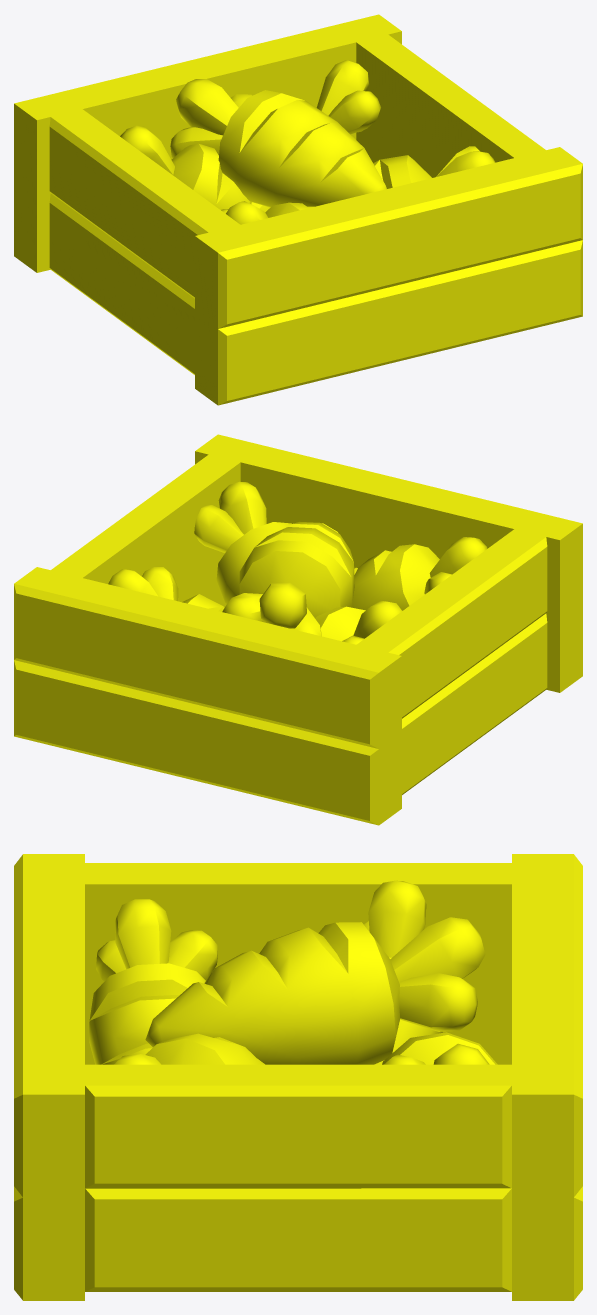
File: crate_carrots.gltf
3 views of the same model, one above another, from view 1: azimuth 30°, elevation 25°; view 2: azimuth 150°, elevation 25°; view 3: azimuth 270°, elevation 25° (orthographic). The views are drawn at different scales.
Parts seen in each view (by area): view 1: crate_carrots; view 2: crate_carrots; view 3: crate_carrots.
Boxes of the visible parts, x1,y1,x2,y2 form: crate_carrots: (14, 14, 582, 405); crate_carrots: (14, 434, 582, 825); crate_carrots: (14, 854, 582, 1300).
Bounding box in the file's own units: 2 × 0.9432 × 2.
1 material, 1 textured.
